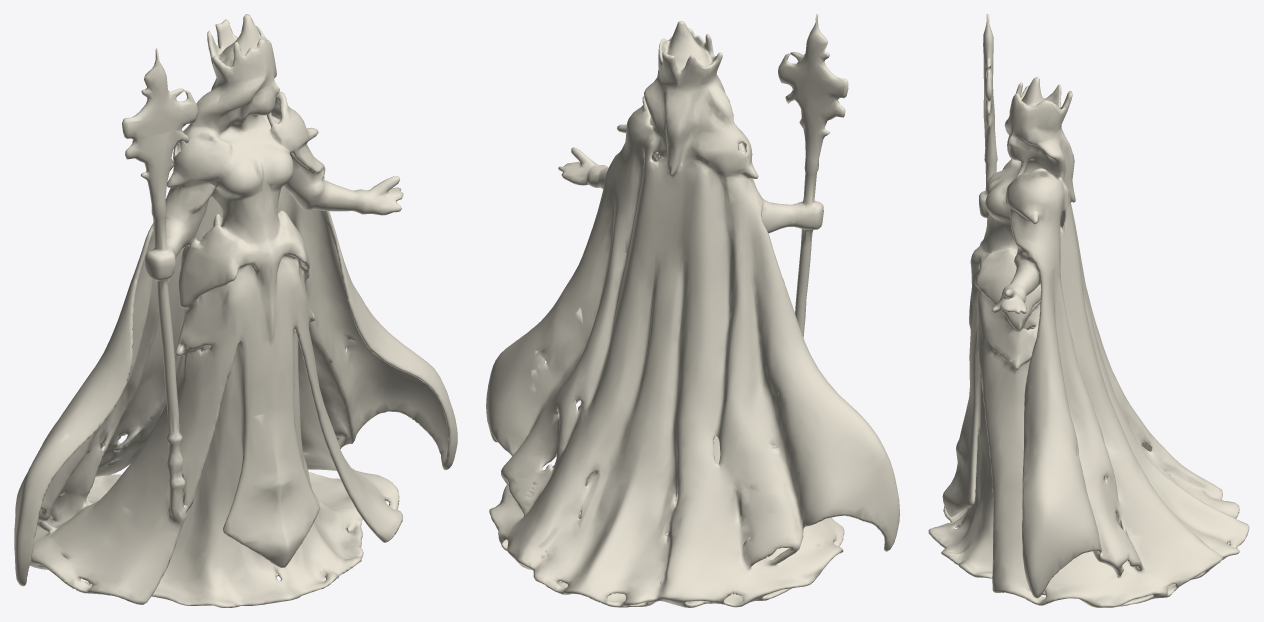
File: ru-ferz.glb
3 renders of one model, left to right at view 1: azimuth 30°, elevation 25°; view 2: azimuth 150°, elevation 25°; view 3: azimuth 270°, elevation 25°, orthographic. The views are drawn at different scales.
Parts seen in each view (by area): view 1: world; view 2: world; view 3: world.
Part boxes in pixels (<box>): world: <box>14,14,457,607</box>; world: <box>486,14,899,607</box>; world: <box>928,14,1249,607</box>.
Bounding box in the file's own units: 1.64 × 1.99 × 1.19.
